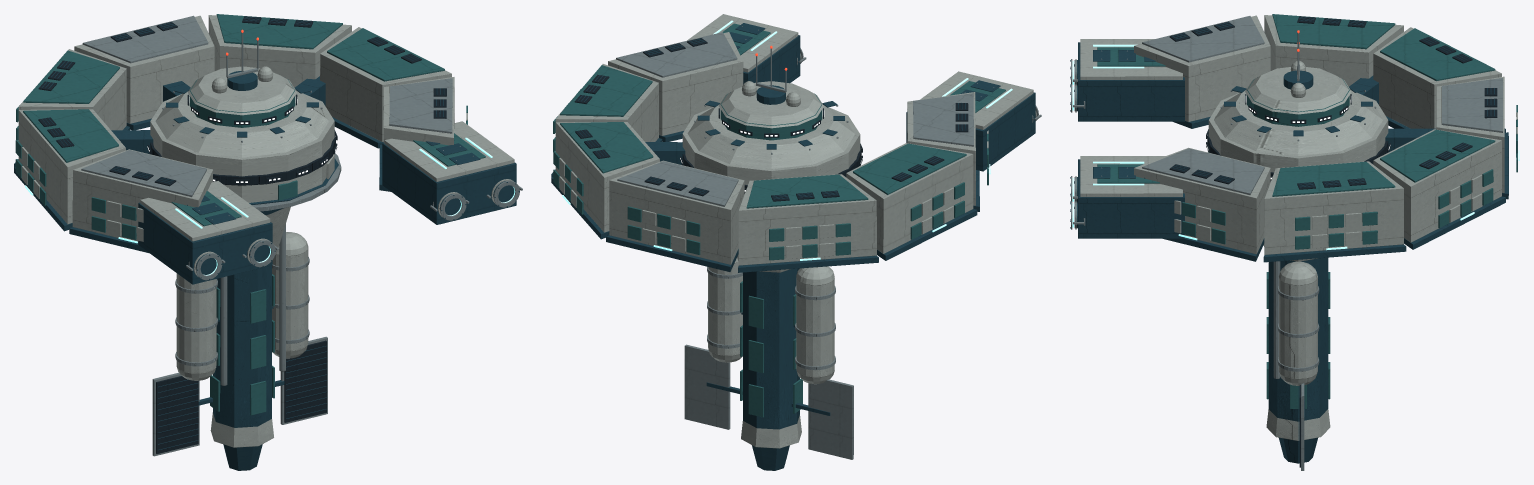
Rendered from kestrel_depot_research.glb.
3 views of the same model, side by side, from view 1: azimuth 30°, elevation 25°; view 2: azimuth 150°, elevation 25°; view 3: azimuth 270°, elevation 25° (orthographic). The views are drawn at different scales.
Visible parts, largest first — view 1: Stationary_Body_Industrial_Hull, Stationary_Body_Industrial_Frame, Stationary_Body_Industrial_Accent, Stationary_Body_Industrial_Trim, Stationary_Body_Industrial_Dark, Stationary_Body_Industrial_Guide; view 2: Stationary_Body_Industrial_Hull, Stationary_Body_Industrial_Accent, Stationary_Body_Industrial_Frame, Stationary_Body_Industrial_Trim, Stationary_Body_Industrial_Dark, Stationary_Body_Industrial_Guide; view 3: Stationary_Body_Industrial_Hull, Stationary_Body_Industrial_Frame, Stationary_Body_Industrial_Accent, Stationary_Body_Industrial_Trim, Stationary_Body_Industrial_Dark, Stationary_Body_Industrial_Guide.
Part boxes in pixels (box(x1,y1,x2,y2)): Stationary_Body_Industrial_Hull: box(18, 15, 514, 447); Stationary_Body_Industrial_Frame: box(14, 17, 519, 470); Stationary_Body_Industrial_Accent: box(15, 14, 485, 415); Stationary_Body_Industrial_Trim: box(81, 15, 522, 456); Stationary_Body_Industrial_Dark: box(38, 16, 446, 453); Stationary_Body_Industrial_Guide: box(25, 137, 515, 275); Stationary_Body_Industrial_Hull: box(555, 14, 1036, 448); Stationary_Body_Industrial_Accent: box(553, 23, 1005, 417); Stationary_Body_Industrial_Frame: box(551, 23, 1035, 470); Stationary_Body_Industrial_Trim: box(616, 26, 1041, 459); Stationary_Body_Industrial_Dark: box(574, 38, 968, 201); Stationary_Body_Industrial_Guide: box(562, 20, 1012, 260); Stationary_Body_Industrial_Hull: box(1075, 15, 1517, 440); Stationary_Body_Industrial_Frame: box(1070, 17, 1508, 463); Stationary_Body_Industrial_Accent: box(1097, 14, 1517, 408); Stationary_Body_Industrial_Trim: box(1071, 16, 1502, 470); Stationary_Body_Industrial_Dark: box(1169, 16, 1497, 467); Stationary_Body_Industrial_Guide: box(1072, 44, 1519, 250).
Size of the model in its own units: 107 by 112 by 106.
Materials: 8 (5 with a texture image).
